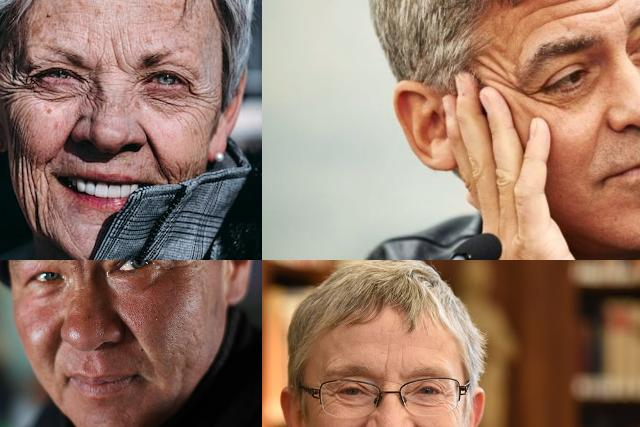bunny_line: (84, 88, 105, 115)
chin: (634, 197, 640, 222)
crows_feet: (7, 70, 38, 100), (187, 82, 211, 117), (163, 260, 185, 276), (322, 386, 334, 406), (442, 388, 454, 408)
forehead: (475, 47, 515, 84), (512, 3, 554, 33), (560, 0, 597, 17)
frown_line: (96, 35, 132, 73), (70, 260, 91, 278), (380, 348, 390, 376), (398, 348, 408, 373)
gummy_smile: (126, 320, 154, 360), (141, 128, 165, 174), (60, 116, 80, 158), (46, 336, 68, 374), (588, 118, 608, 158), (335, 417, 365, 427)
masseter: (12, 154, 40, 220)
sad_smile: (41, 152, 55, 188)
